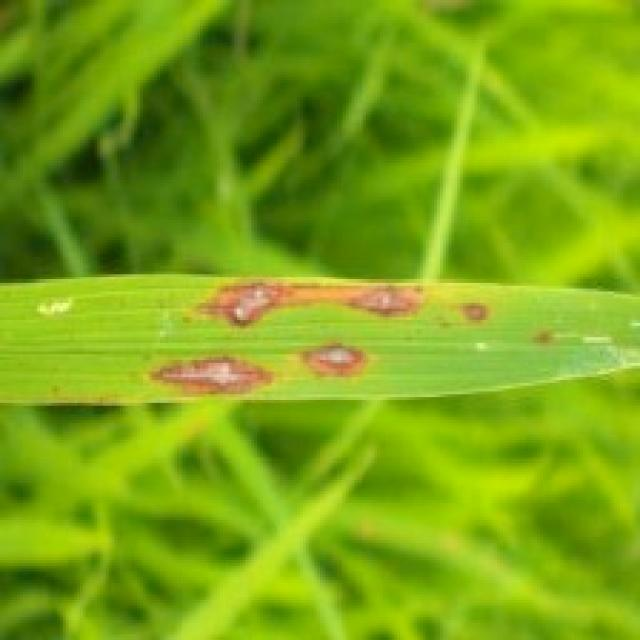Unhealthy: (146, 355, 275, 396), (192, 279, 288, 332), (291, 343, 369, 378), (348, 285, 411, 319), (463, 305, 487, 324), (530, 332, 553, 346)
